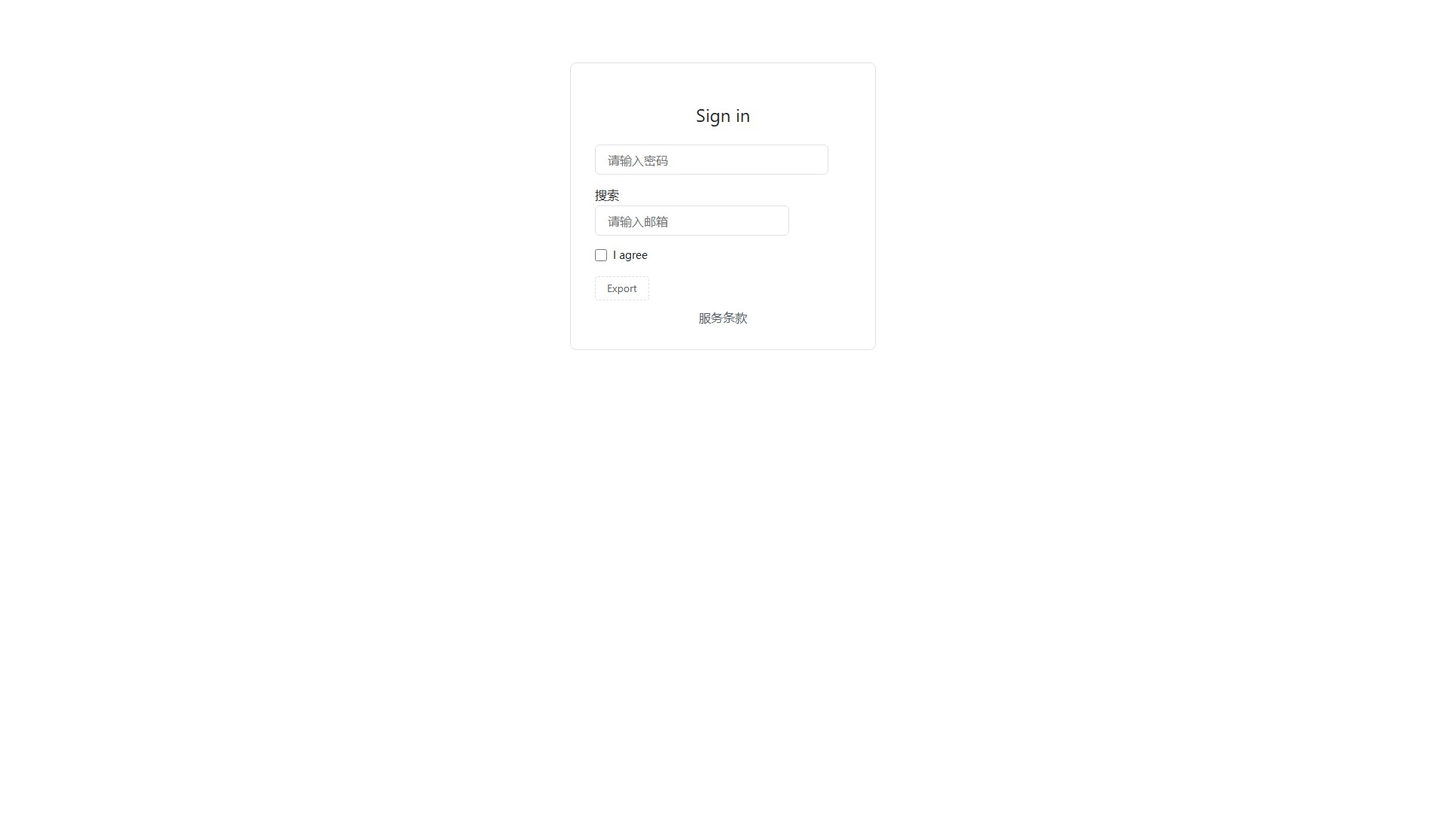button: (595, 276, 649, 300)
checkbox: (595, 249, 607, 261)
icon: (613, 248, 648, 262)
input: (595, 145, 828, 175), (595, 206, 789, 236)
link: (699, 309, 747, 325)
radio: (595, 248, 648, 262)
